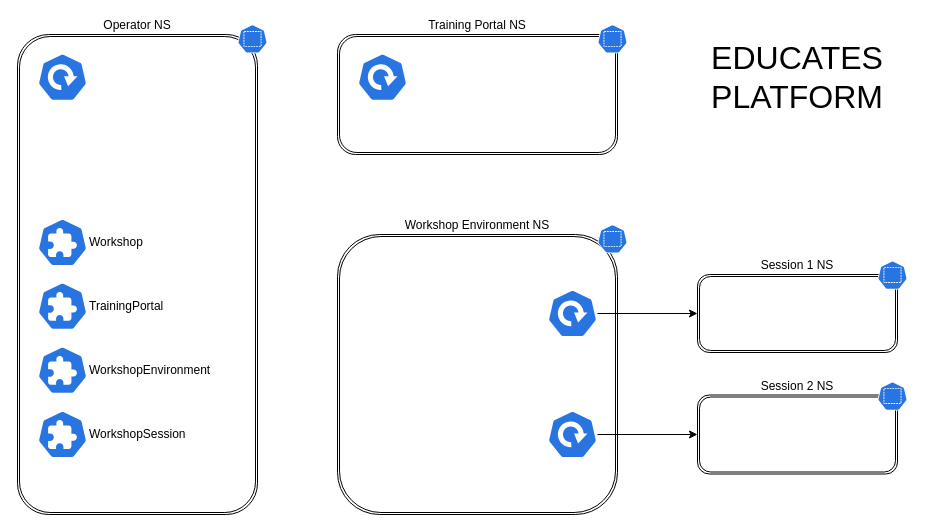
This 925x532 diagram has some shape labels left out. The shapes that lost their labels are listed below. From the top down, each one's centre as x and y in pixels, then its label:
At point (62, 76): "Educates Operator".
At point (382, 76): "Training Portal".
At point (572, 313): "Workshop Session 1".
At point (572, 434): "Workshop Session 2".
